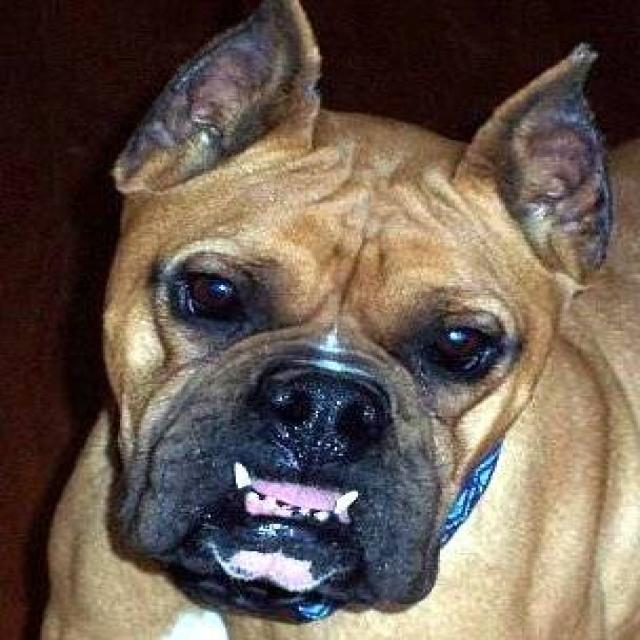Dog: (90, 0, 636, 630)
